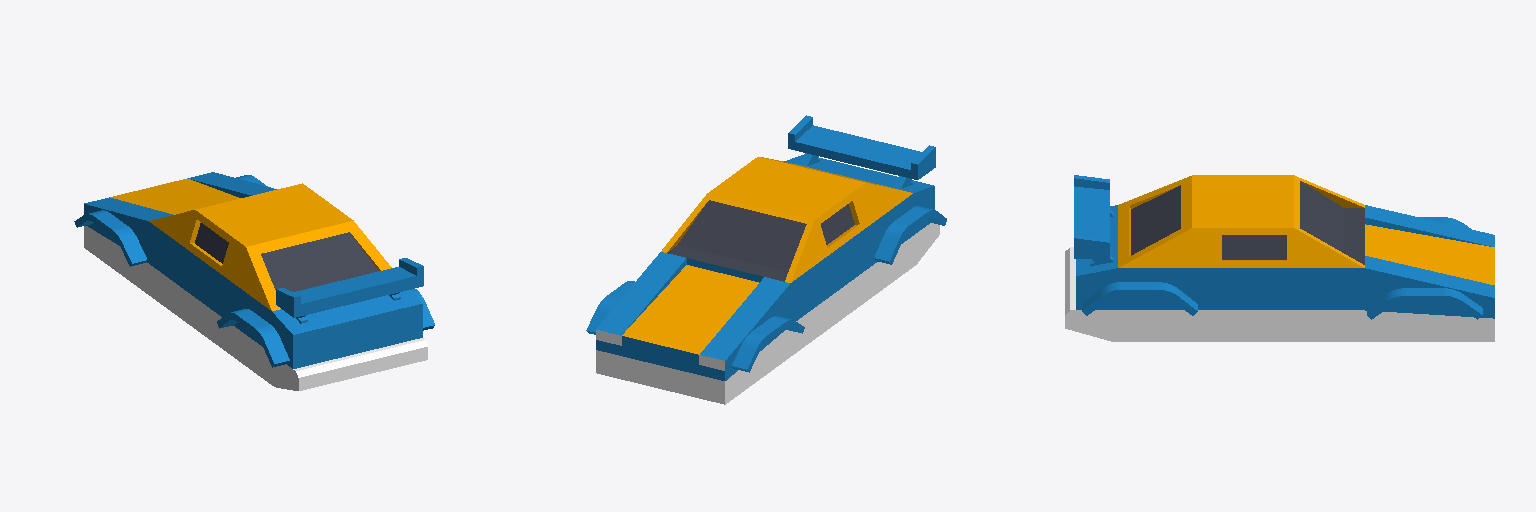
The model's file is Car06.obj.
3 views of the same model, side by side, from view 1: azimuth 30°, elevation 25°; view 2: azimuth 150°, elevation 25°; view 3: azimuth 270°, elevation 25° (orthographic).
Visible parts, largest first — view 1: Car06; view 2: Car06; view 3: Car06.
Boxes of the visible parts, box(x1,y1,x2,y2) form: Car06: box(74, 172, 434, 390); Car06: box(586, 115, 946, 404); Car06: box(1065, 175, 1494, 341).
Bounding box in the file's own units: 1.24 × 0.8 × 2.87.